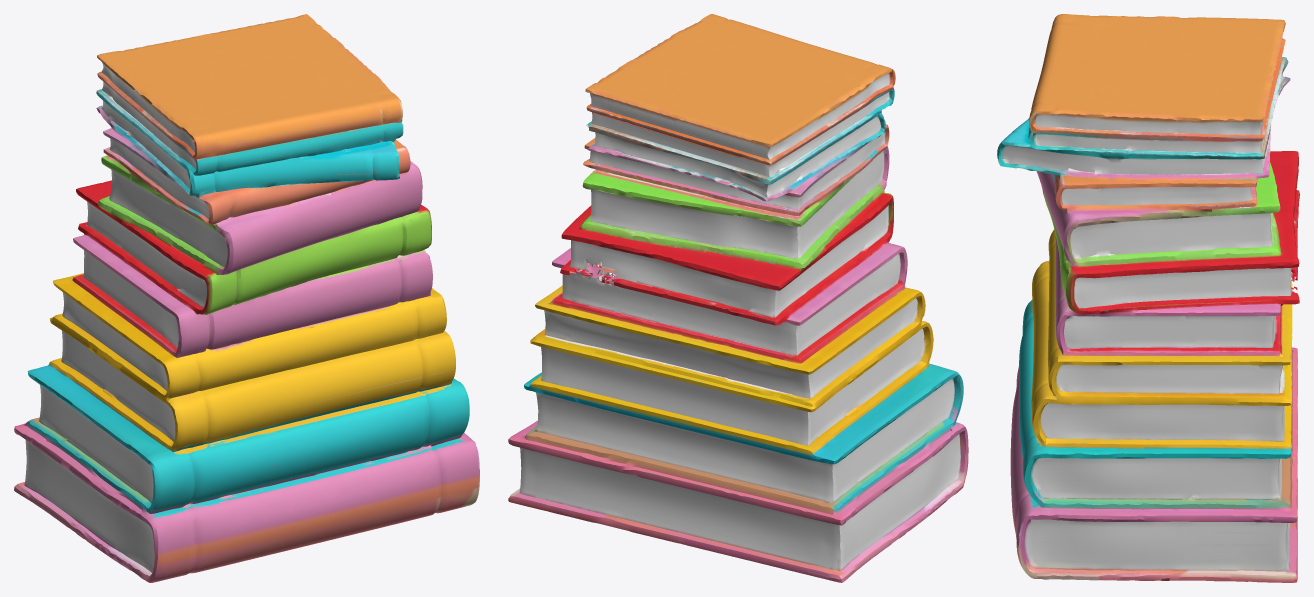
The model's file is Meshy_AI_stylized_stack_of_chi_0322174940_texture.fbx.
3 renders of one model, left to right at view 1: azimuth 30°, elevation 25°; view 2: azimuth 150°, elevation 25°; view 3: azimuth 270°, elevation 25°, orthographic. The views are drawn at different scales.
Parts seen in each view (by area): view 1: output; view 2: output; view 3: output.
Part boxes in pixels (<box>): output: <box>14,14,479,582</box>; output: <box>508,14,968,582</box>; output: <box>997,14,1299,582</box>.
Bounding box in the file's own units: 161 × 191 × 121.
Materials: 1 (1 with a texture image).
